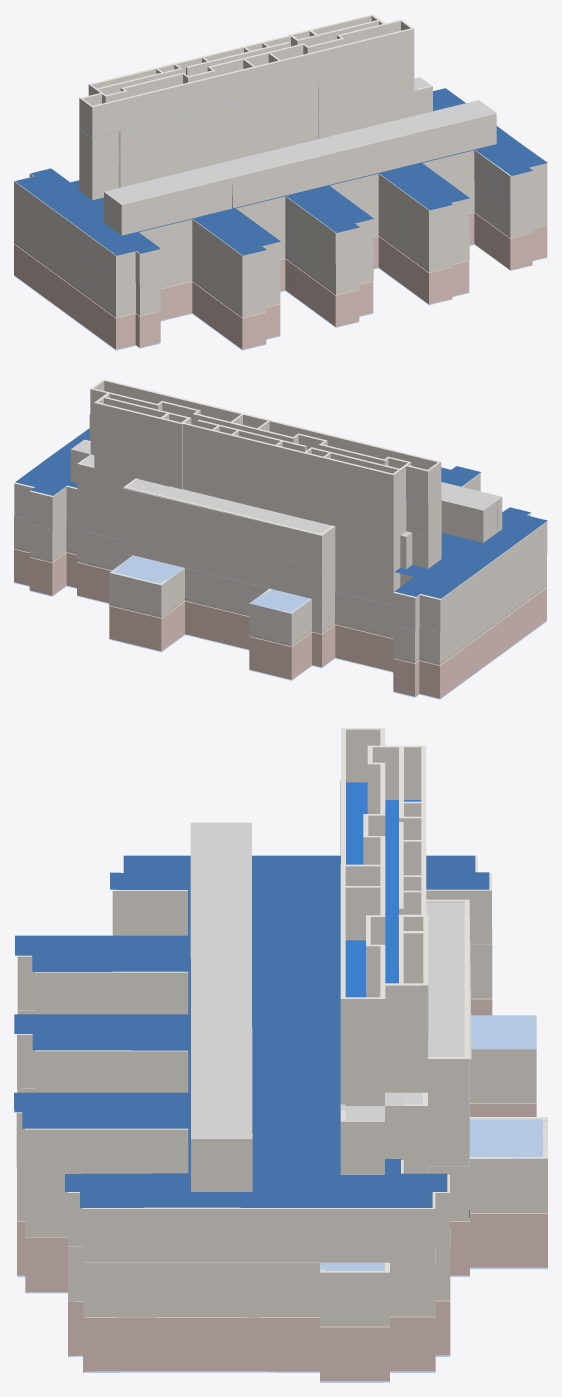
Rendered from Våning5.glb.
3 views of the same model, one above another, from view 1: azimuth 30°, elevation 25°; view 2: azimuth 150°, elevation 25°; view 3: azimuth 270°, elevation 25° (orthographic). The views are drawn at different scales.
Visible parts, largest first — view 1: Plane.007, Plane.004, Plane.012, Plane, Plane.002, Plane.005, Plane.009, Plane.008, Plane.001; view 2: Plane.012, Plane.002, Plane.004, Plane, Plane.007, Plane.009, Plane.005, Plane.011, Plane.006, Plane.008, Plane.001; view 3: Plane.005, Plane.004, Plane.002, Plane, Plane.012, Plane.008, Plane.007, Plane.011, Plane.006, Plane.010, Plane.009, Plane.001.
Part boxes in pixels (left/top/right/bottom): Plane.007: left=79, top=86, right=496, bottom=235; Plane.004: left=14, top=88, right=547, bottom=286; Plane.012: left=79, top=14, right=414, bottom=138; Plane: left=14, top=212, right=547, bottom=349; Plane.002: left=14, top=181, right=547, bottom=317; Plane.005: left=15, top=88, right=547, bottom=255; Plane.009: left=79, top=60, right=414, bottom=169; Plane.008: left=104, top=100, right=496, bottom=204; Plane.001: left=14, top=244, right=546, bottom=350; Plane.012: left=90, top=379, right=441, bottom=507; Plane.002: left=14, top=516, right=546, bottom=665; Plane.004: left=14, top=473, right=547, bottom=632; Plane: left=14, top=549, right=546, bottom=698; Plane.007: left=70, top=415, right=502, bottom=572; Plane.009: left=90, top=422, right=441, bottom=540; Plane.005: left=15, top=428, right=547, bottom=598; Plane.011: left=71, top=439, right=411, bottom=536; Plane.006: left=18, top=517, right=433, bottom=631; Plane.008: left=90, top=414, right=501, bottom=510; Plane.001: left=14, top=582, right=546, bottom=699; Plane.005: left=14, top=855, right=489, bottom=1207; Plane.004: left=16, top=856, right=491, bottom=1263; Plane.002: left=17, top=944, right=547, bottom=1326; Plane: left=17, top=998, right=547, bottom=1381; Plane.012: left=340, top=728, right=428, bottom=1052; Plane.008: left=190, top=822, right=252, bottom=1138; Plane.007: left=191, top=899, right=469, bottom=1191; Plane.011: left=341, top=902, right=471, bottom=1121; Plane.006: left=83, top=927, right=547, bottom=1272; Plane.010: left=340, top=780, right=421, bottom=997; Plane.009: left=340, top=1039, right=427, bottom=1105; Plane.001: left=17, top=1267, right=547, bottom=1382.
Bounding box in the file's own units: 346 × 145 × 215.
